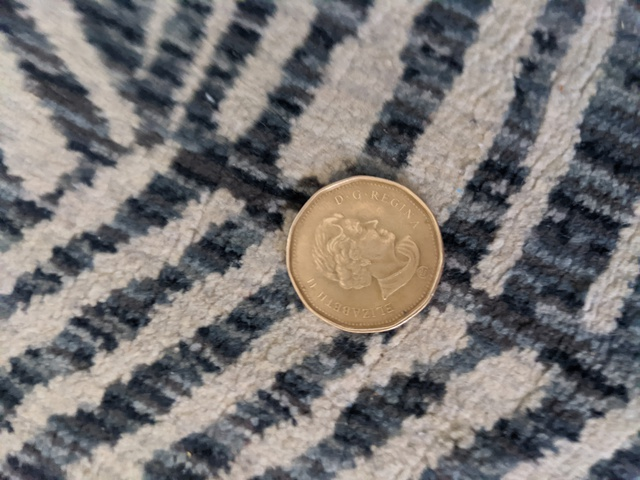loonie: (264, 147, 465, 358)
